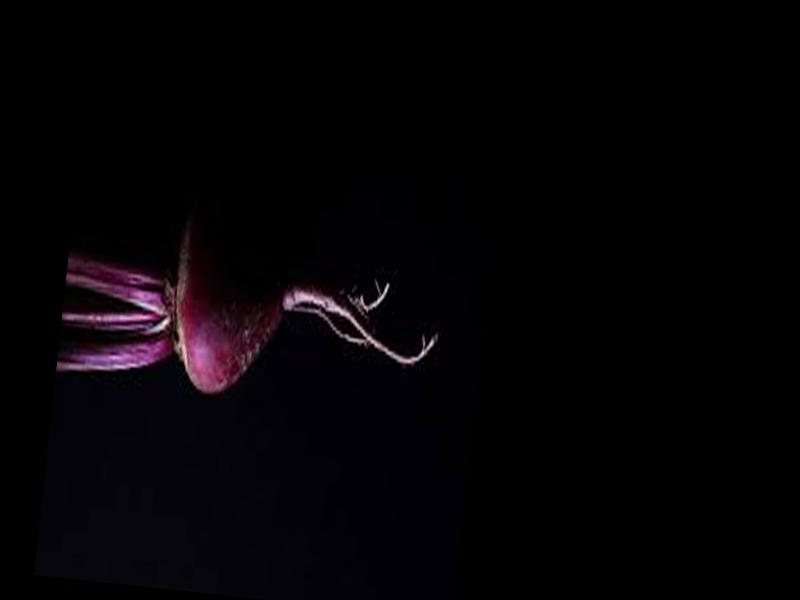Beet: (56, 185, 450, 429)
